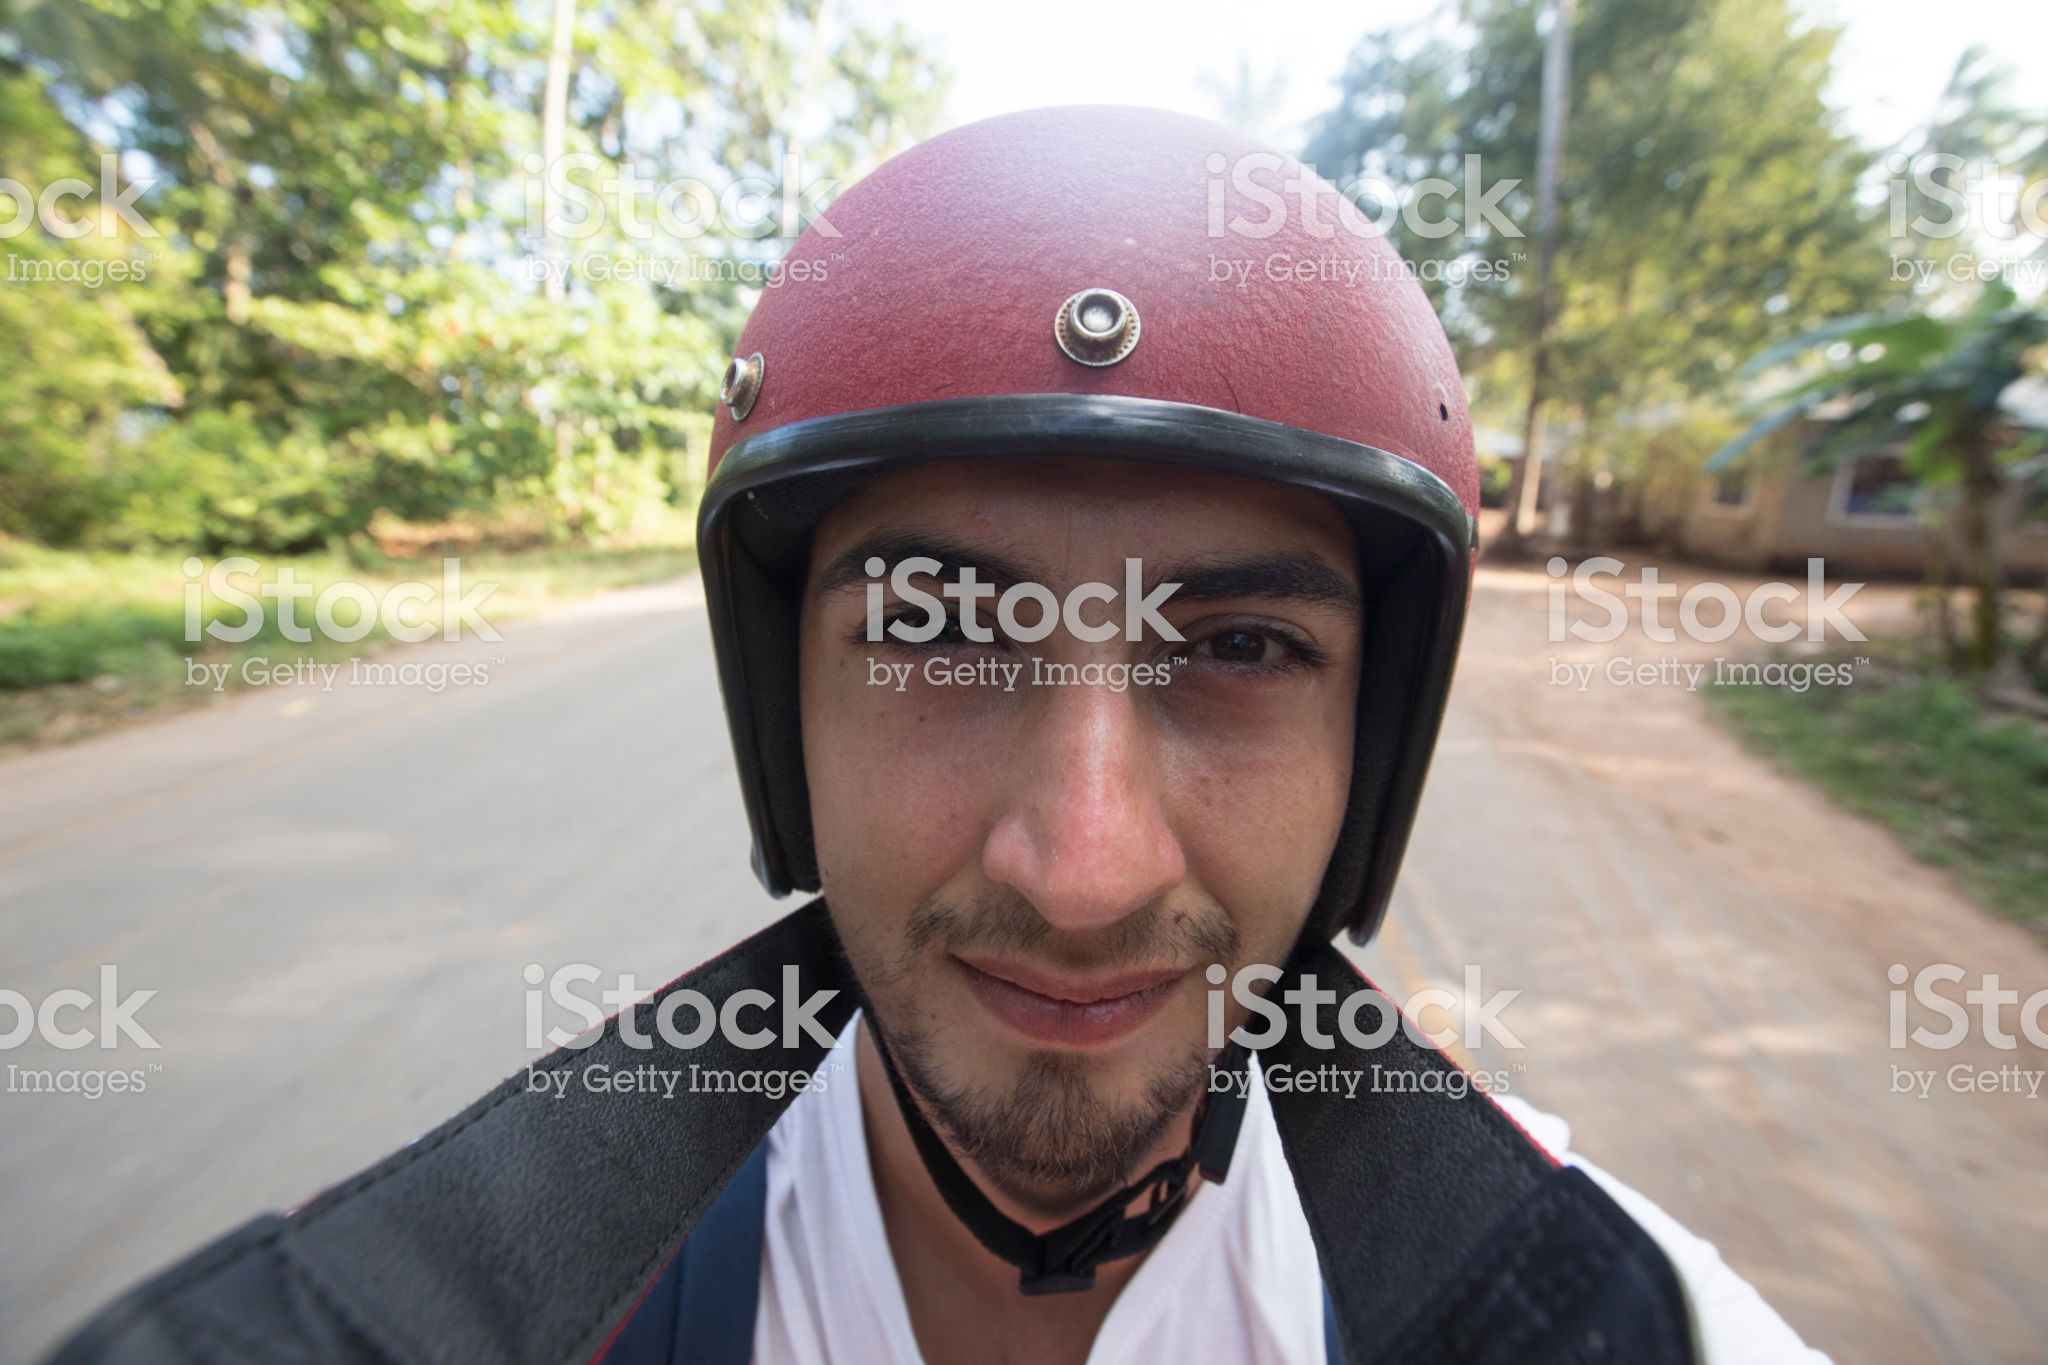helmet: (697, 81, 1463, 754)
